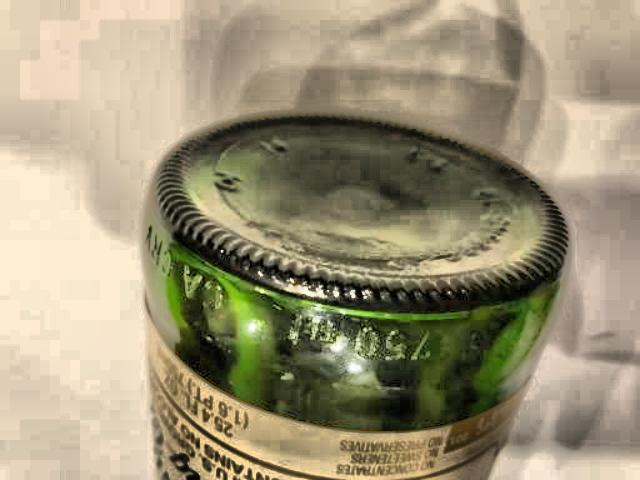Bottles: (105, 95, 579, 480)
